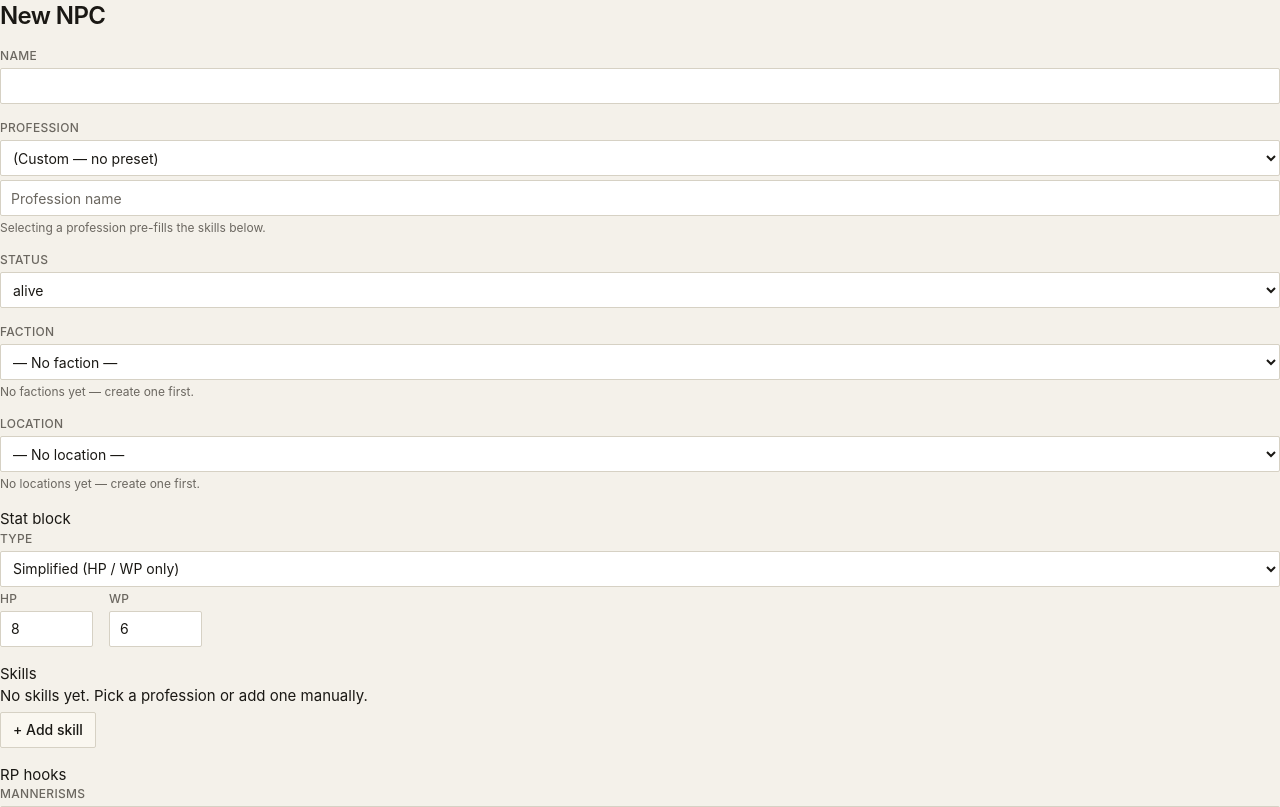
Test: NewNpcPage › renders default fields with all four status options and a simplified stat block
expect the heading "New NPC" is shown: met, box [0,1,105,30]
expect the number field labelled "HP" is shown: met, box [0,610,93,646]
Type "Cultist Goon" into the field labelled "Name" at coordinates (640, 86), box [0,68,1279,104]
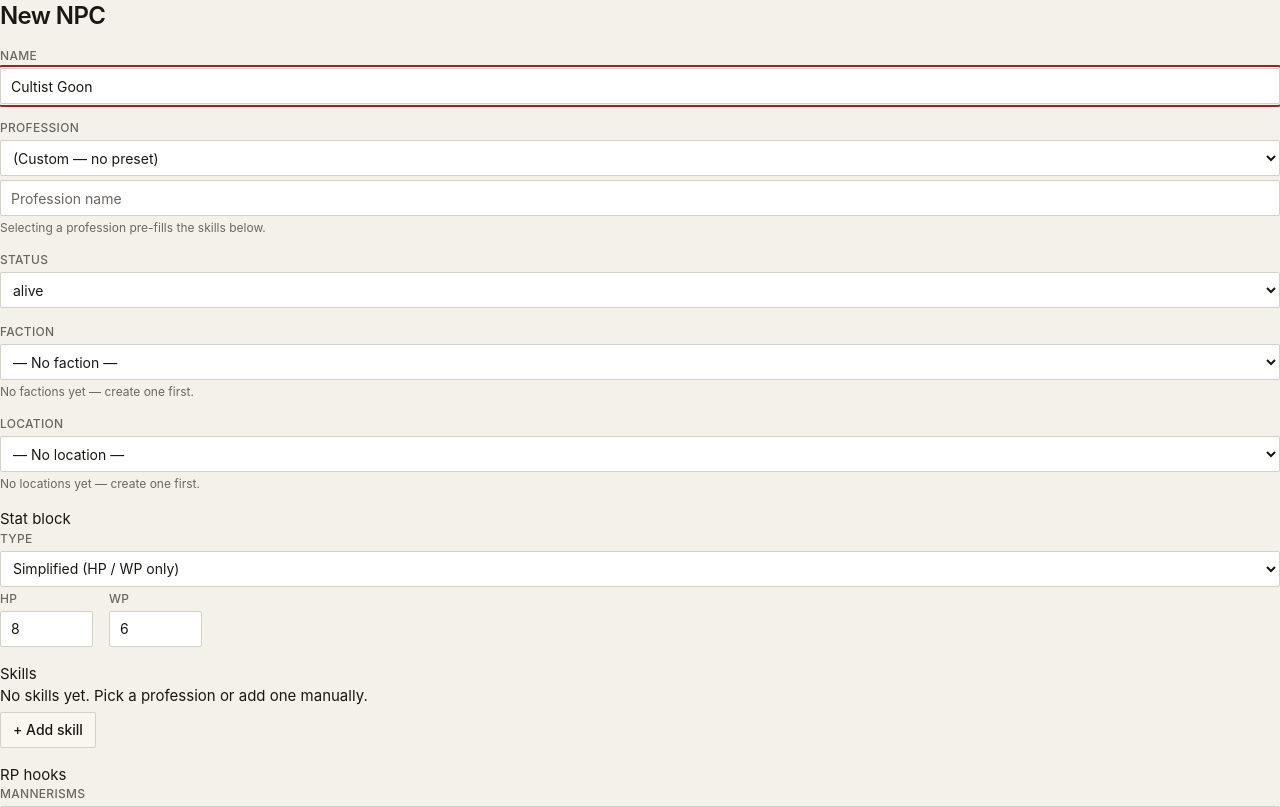
// Switch to full stat block — STR field appears, HP/WP fields disappear.
Select "Full (DG RAW stats)" in the dropdown labelled "Type" at coordinates (640, 568), box [0,550,1279,586]
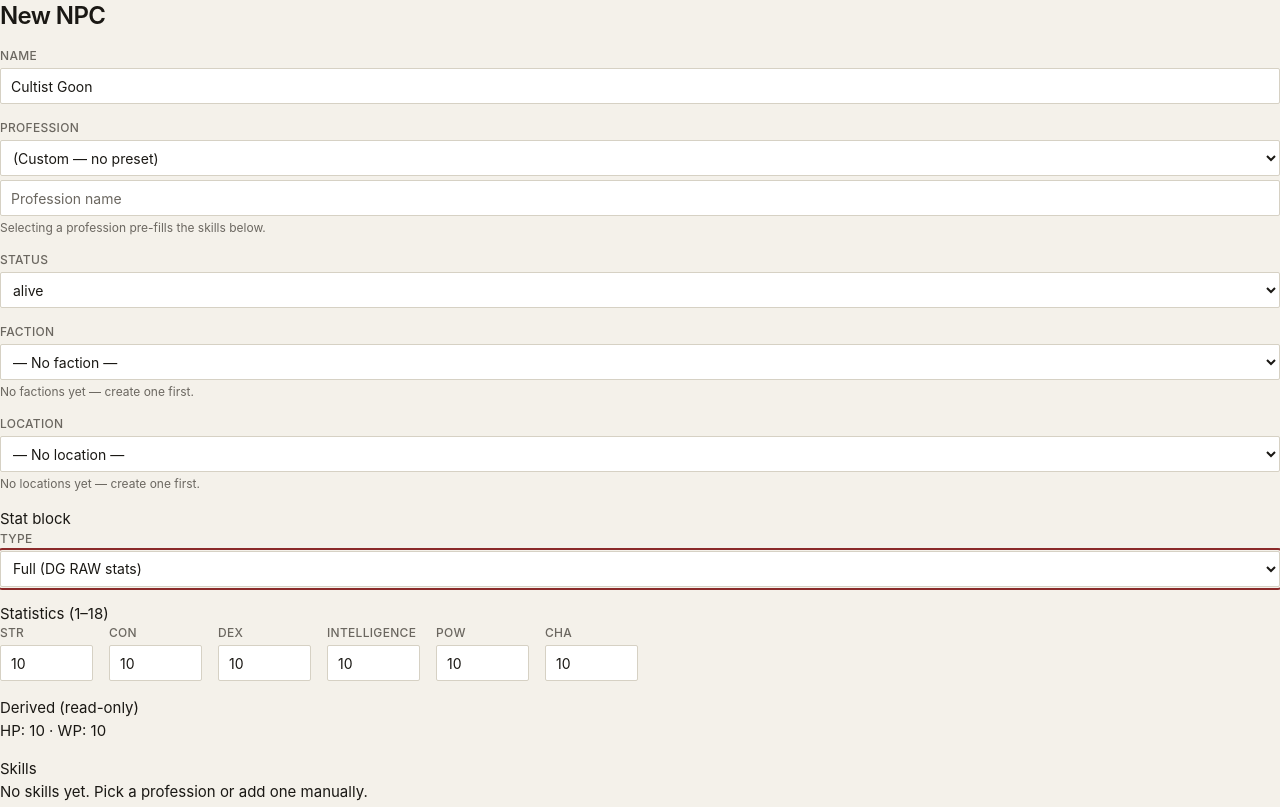
expect the number field labelled "STR" is shown: met, box [0,645,93,681]
